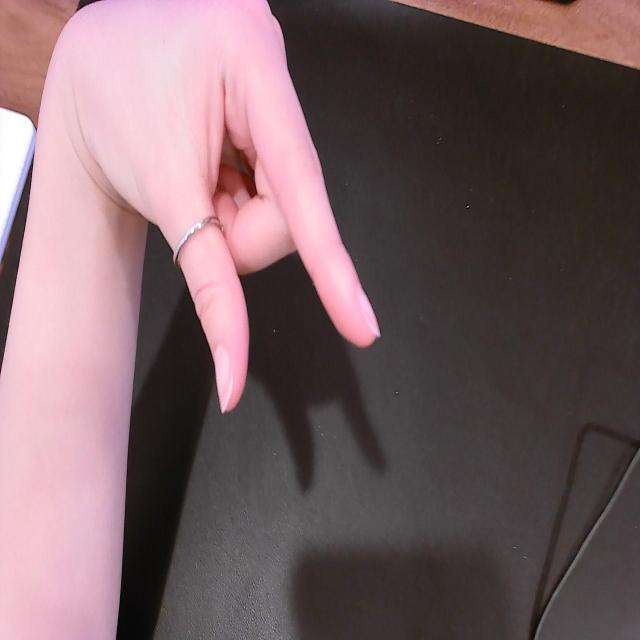Q: (48, 0, 388, 424)
